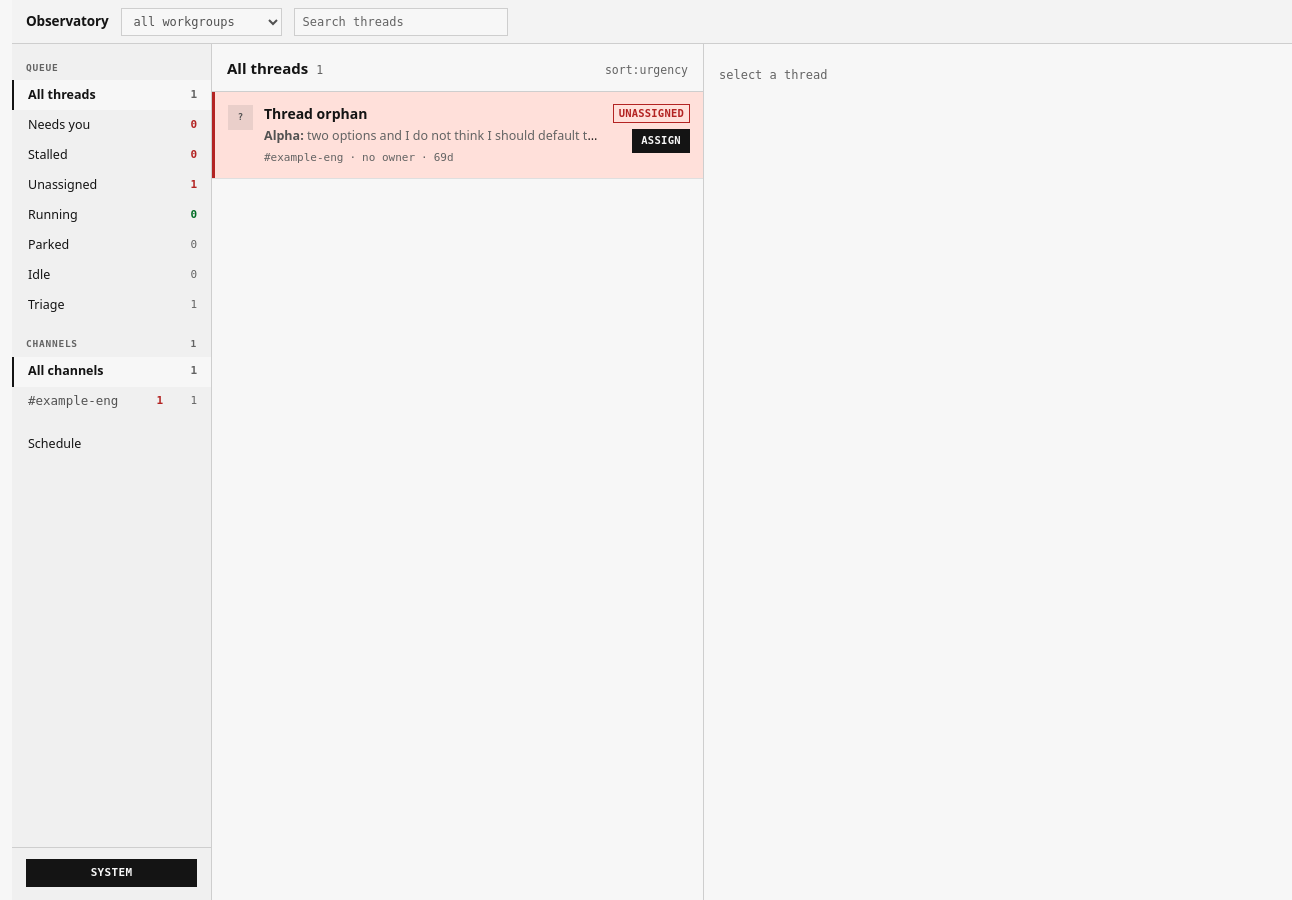
Test: empty states › renders a thread nobody owns, in the row AND in the detail pane
Check: the list item with class "ncc-row" is shown, box [212,92,703,179]
Check: the element with class "orphan" is shown, box [228,104,253,130]
Click the button with class "ncc-row-main": (415, 135) [228,104,602,167]
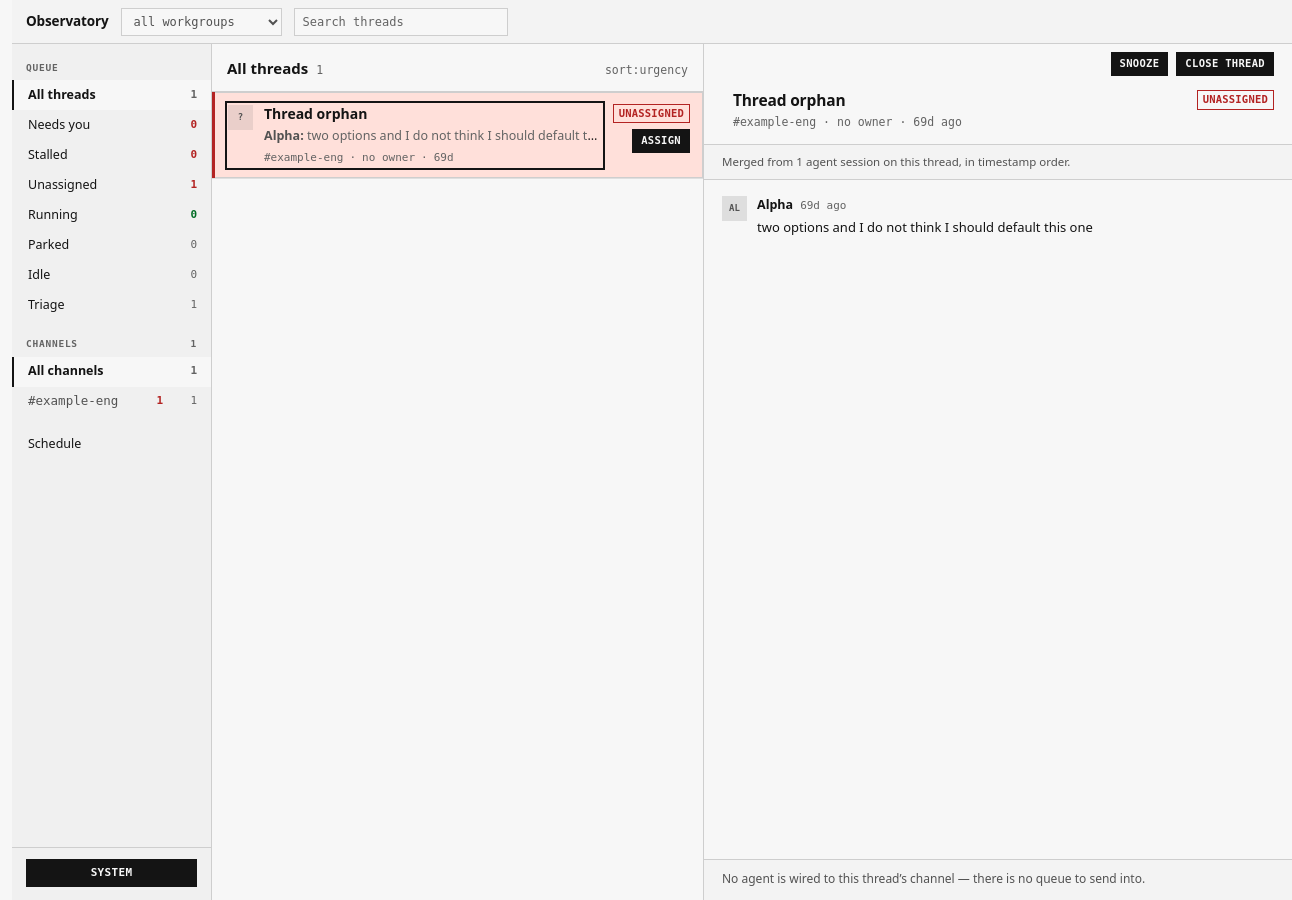
Check: the element with class "ncc-detail-meta" shows "no owner", box [837,115,892,129]
